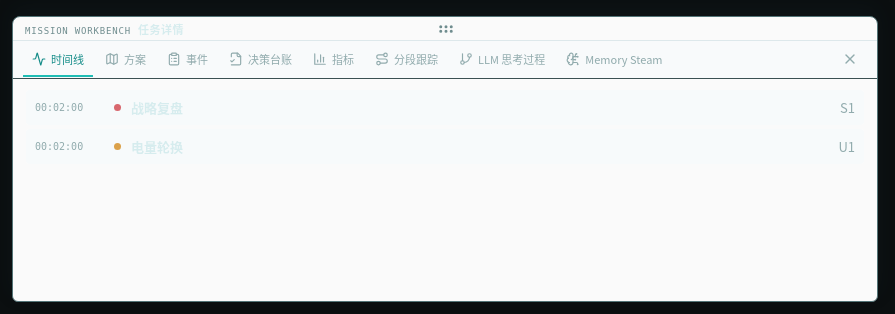
Scenario: BottomDrawer adaptive events › shows memory stream failure status and reason without events
Click the tab "Memory Steam" at coordinates (614, 60), box top-left (557, 42), bottom-right (672, 76)
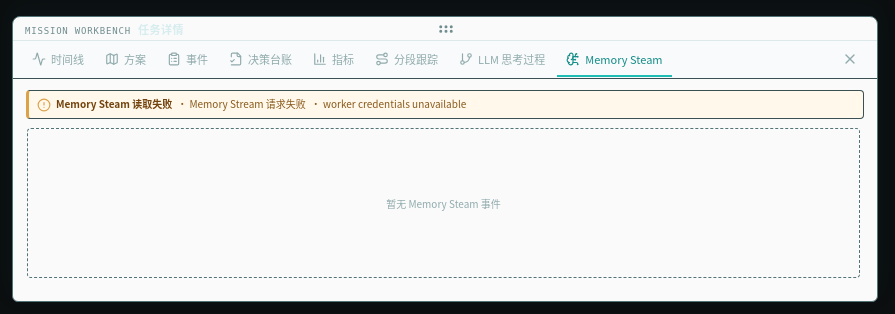
Expected: the message shows "Memory Steam 读取失败", top-left (56, 96), bottom-right (172, 111)
Expected: the message shows "worker credentials unavailable", top-left (323, 96), bottom-right (466, 111)
Expected: the message shows "Memory Stream 请求失败", top-left (190, 96), bottom-right (306, 111)
